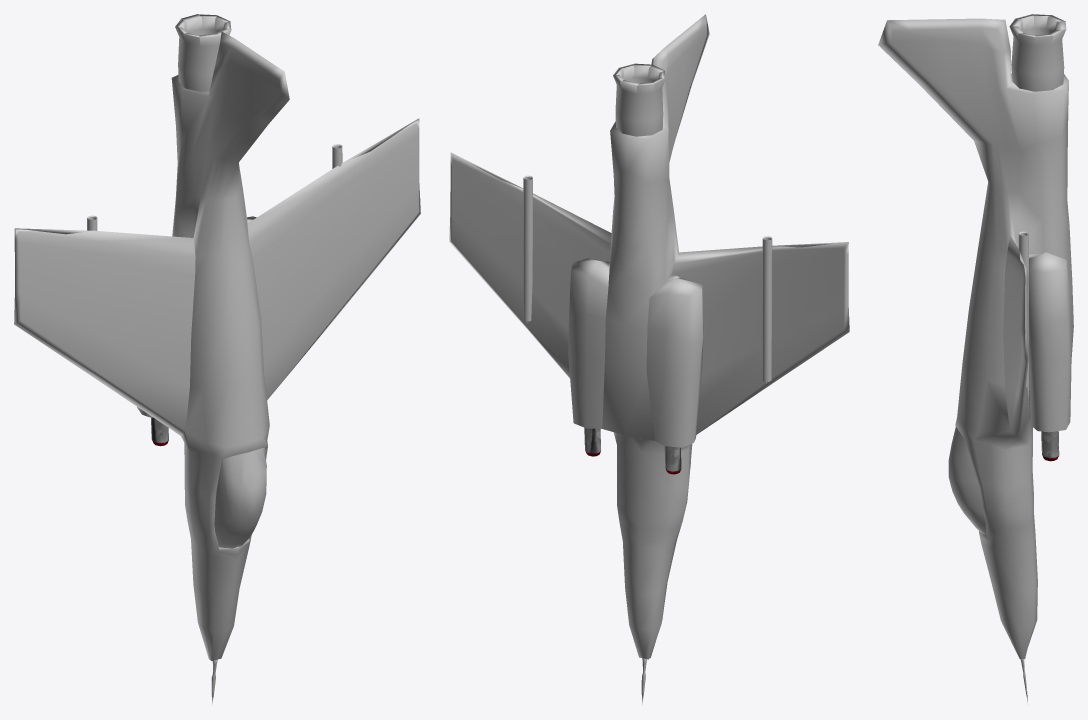
File: jet.fbx
3 renders of one model, left to right at view 1: azimuth 30°, elevation 25°; view 2: azimuth 150°, elevation 25°; view 3: azimuth 270°, elevation 25°, orthographic. The views are drawn at different scales.
Parts seen in each view (by area): view 1: pSphere3; view 2: pSphere3; view 3: pSphere3, polySurface1.
Part boxes in pixels (x1=…): pSphere3: x1=14, y1=14, x2=420, y2=704; pSphere3: x1=449, y1=14, x2=849, y2=705; pSphere3: x1=878, y1=14, x2=1073, y2=704; polySurface1: x1=1041, y1=431, x2=1059, y2=461.
Size of the model in its own units: 7.65 by 3.1 by 12.01.
